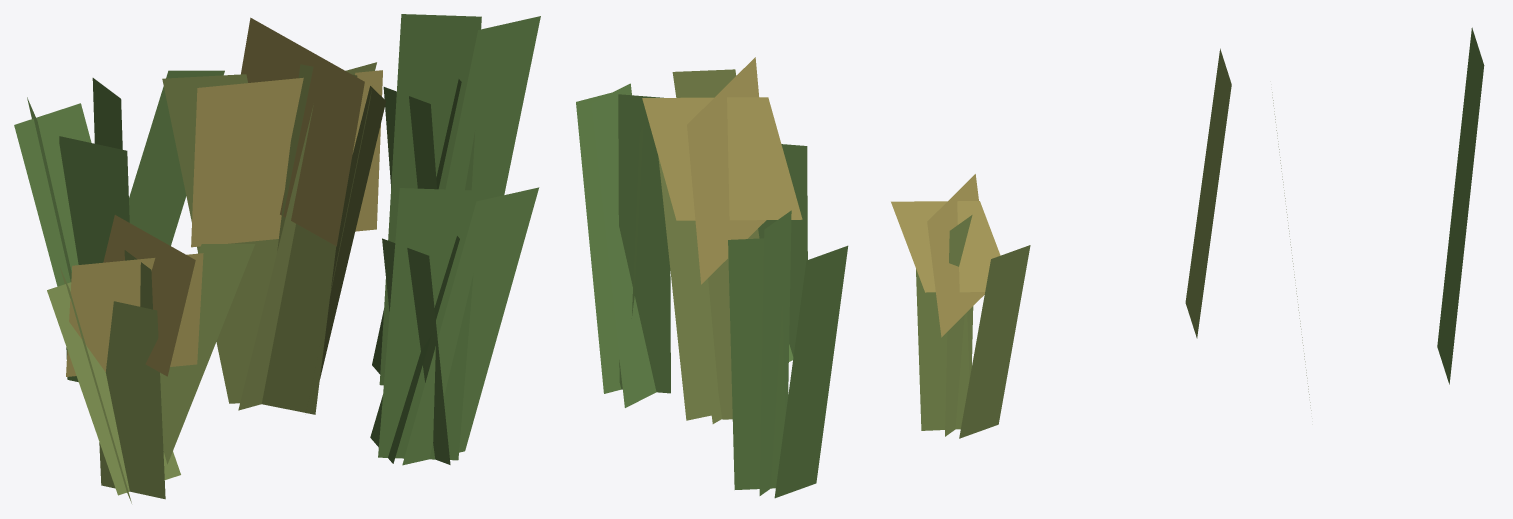
Rendered from arch_land_scatter_c16_20.glb.
3 views of the same model, side by side, from view 1: azimuth 30°, elevation 25°; view 2: azimuth 150°, elevation 25°; view 3: azimuth 270°, elevation 25° (orthographic). The views are drawn at different scales.
Visible parts, largest first — view 1: arch_land_scatter_c16_20; view 2: arch_land_scatter_c16_20; view 3: arch_land_scatter_c16_20.
Boxes of the visible parts, <box> form: arch_land_scatter_c16_20: <box>14,14,540,503</box>; arch_land_scatter_c16_20: <box>576,57,1030,498</box>; arch_land_scatter_c16_20: <box>1185,27,1484,410</box>.
Size of the model in its own units: 0.9053 by 0.6489 by 0.6415.
